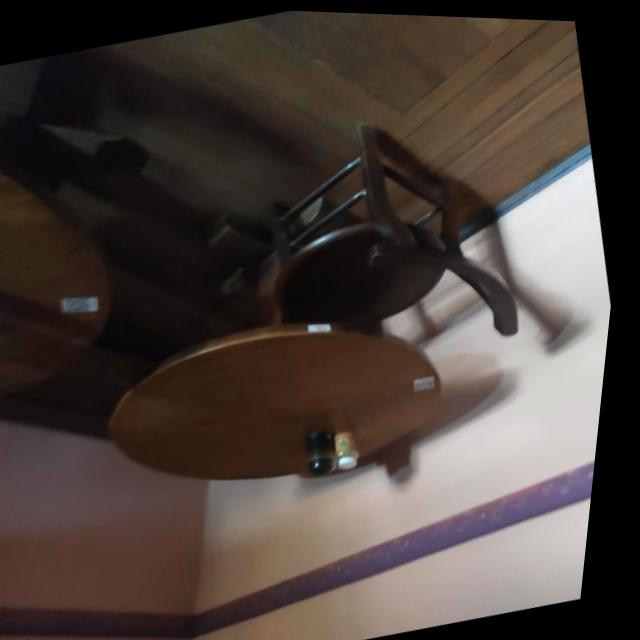qrcode: (68, 292, 98, 316), (422, 376, 442, 388)
